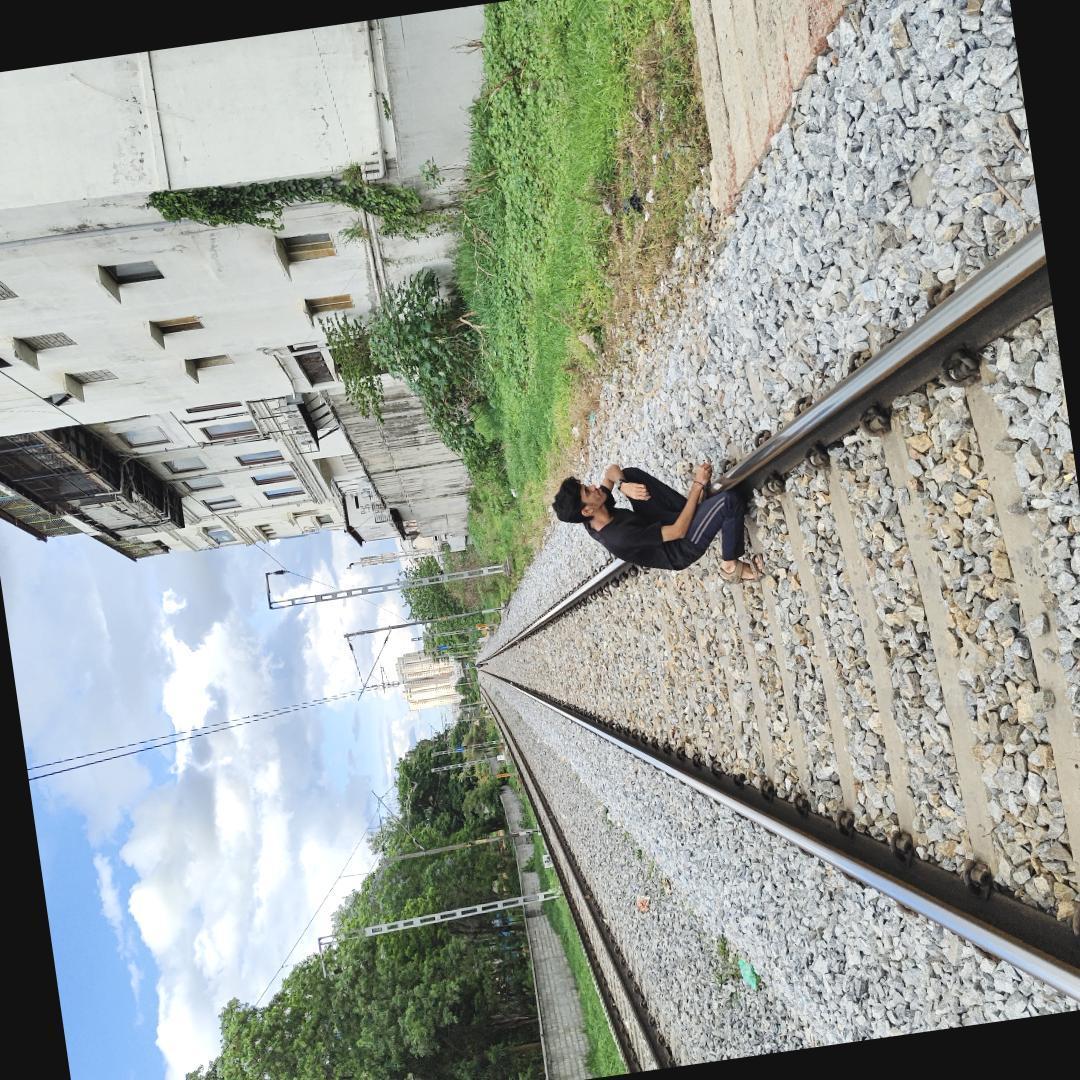sitting: (535, 449, 759, 583)
